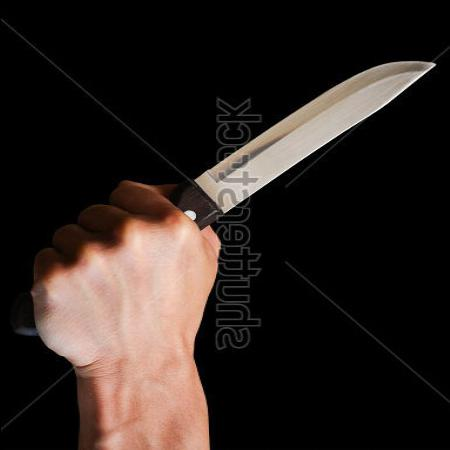long weapon: (29, 56, 443, 282)
